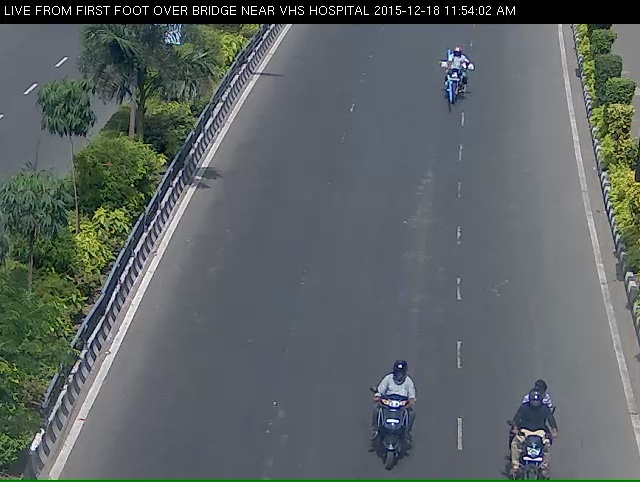Person: (362, 393, 419, 478), (506, 400, 564, 478), (429, 45, 477, 119)
